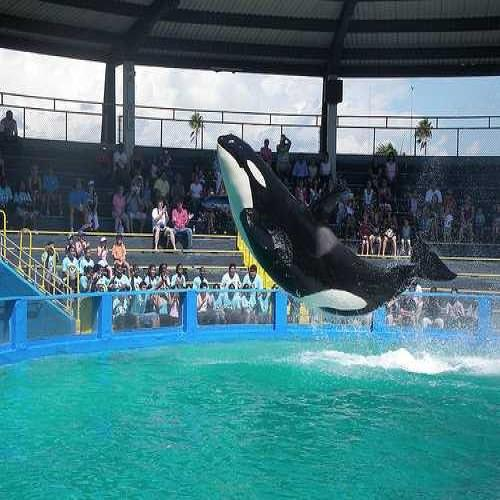killer_whale-endangered: (209, 118, 456, 326)
